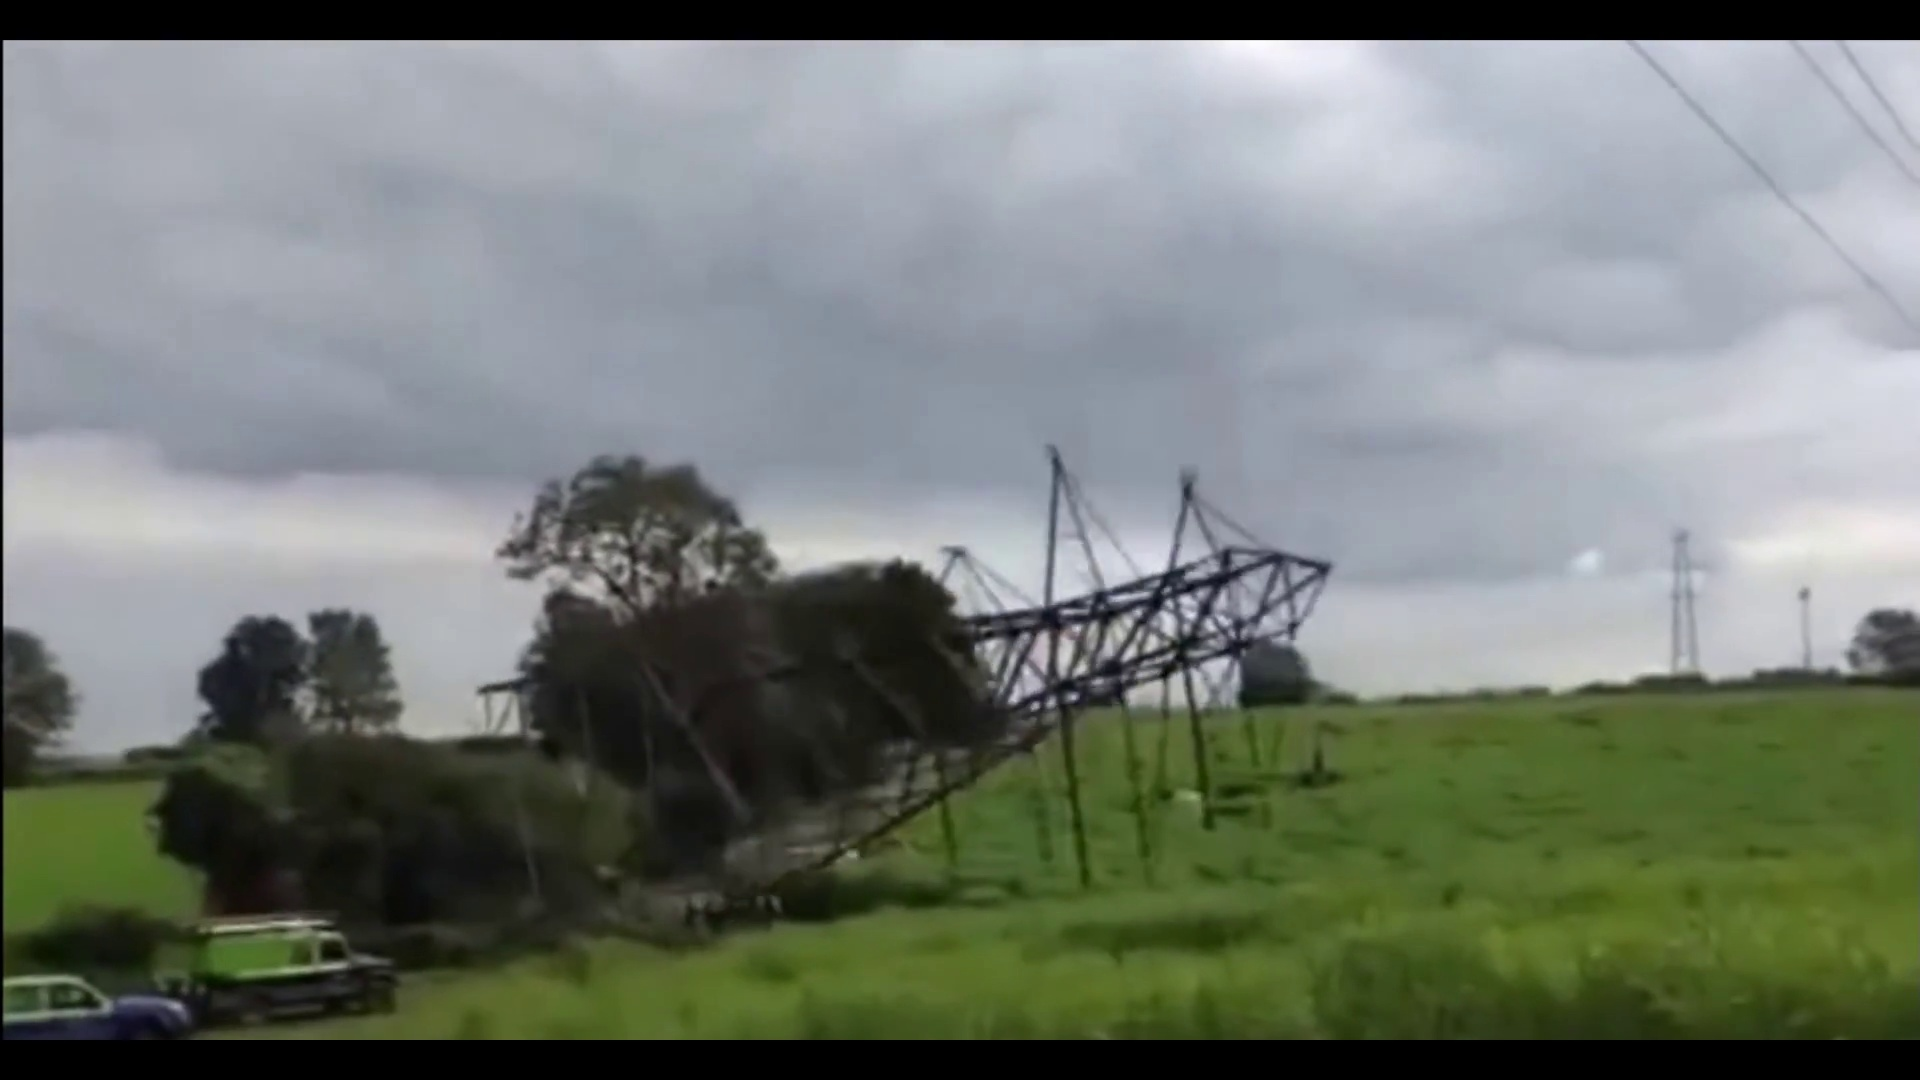tower_down: (807, 447, 1349, 802)
